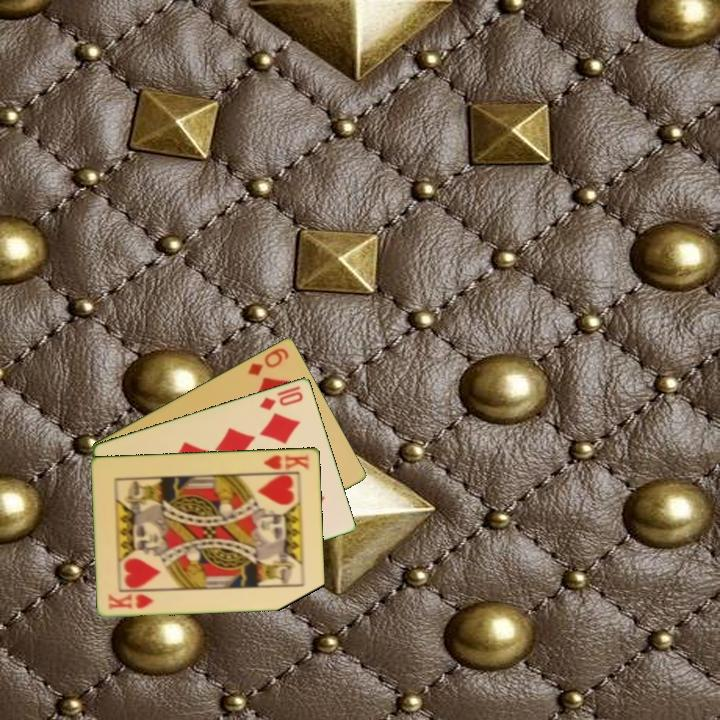10d: (256, 387, 306, 413)
6d: (244, 344, 292, 378)
Kh: (257, 450, 312, 475), (105, 590, 156, 612)
